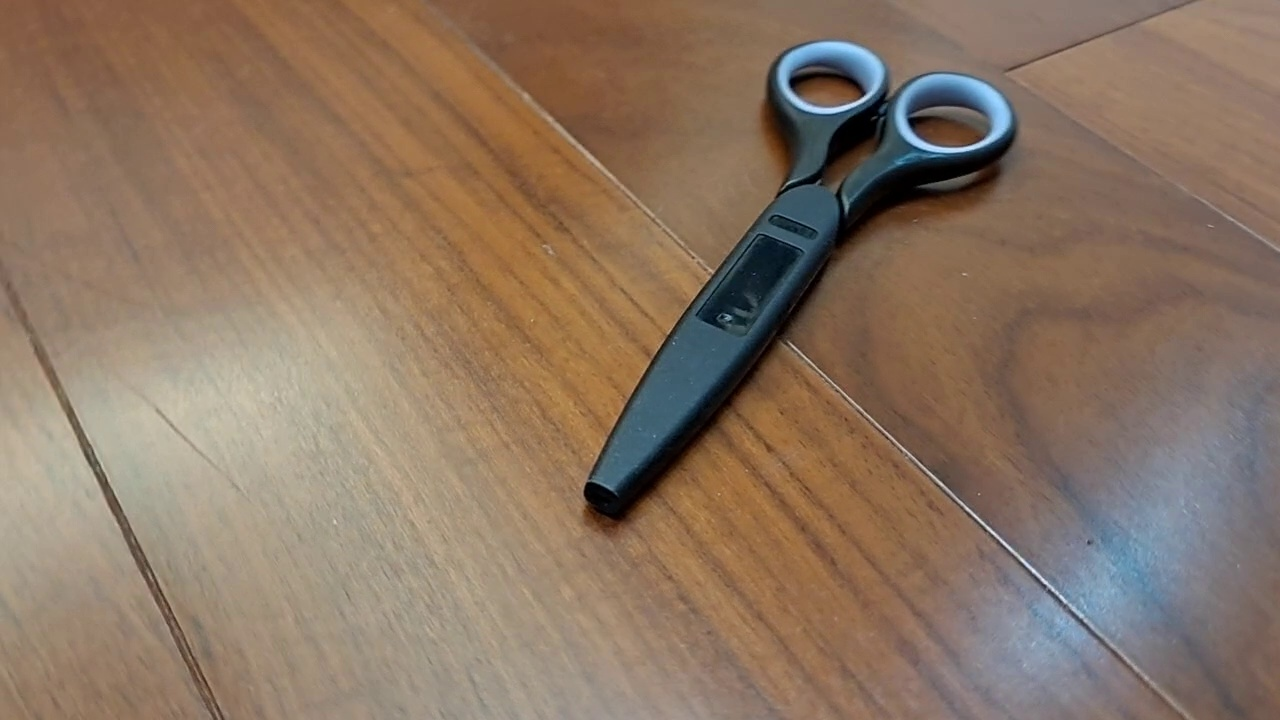scissors: (582, 36, 1019, 524)
